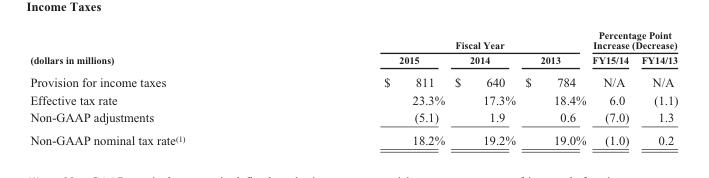table: (29, 28, 677, 146)
table column: (29, 28, 283, 146), (283, 28, 449, 146), (449, 28, 519, 146), (519, 28, 588, 146), (588, 28, 634, 146), (634, 28, 677, 146)
table column header: (29, 28, 677, 70)
table row: (29, 28, 677, 52), (29, 70, 677, 90), (29, 108, 677, 128), (29, 52, 677, 70), (29, 90, 677, 108), (29, 128, 677, 146)
table spanning cell: (29, 28, 283, 70), (283, 28, 588, 52), (588, 28, 677, 52)
